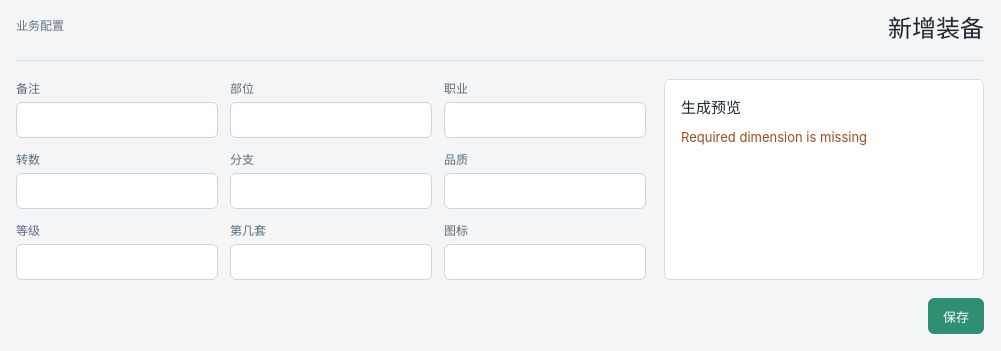
Test case: EquipEditPage › shows configured Chinese language text while keeping generated keys visible
In the field labelled "部位": [331, 120] box [230, 102, 432, 138], type "1"
In the field labelled "职业": [545, 120] box [444, 102, 646, 138], type "1"
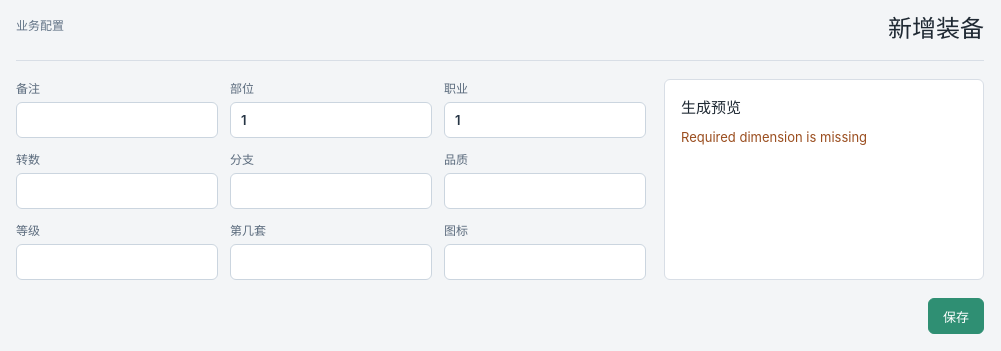
In the field labelled "转数": [117, 191] box [16, 173, 218, 209], type "0"
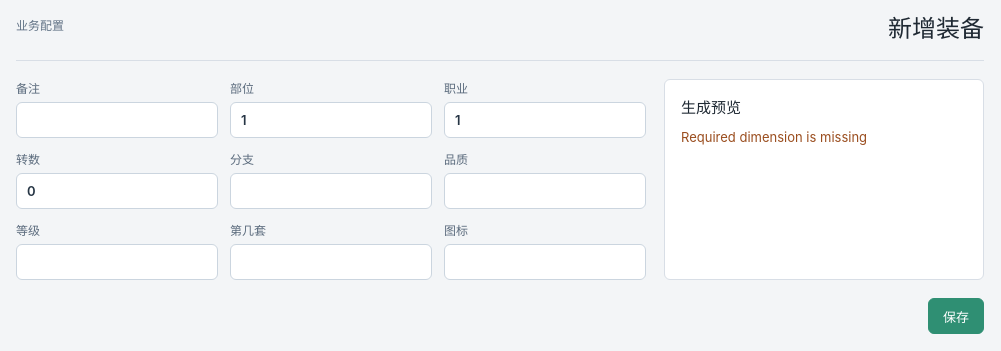
In the field labelled "分支": [331, 191] box [230, 173, 432, 209], type "1"
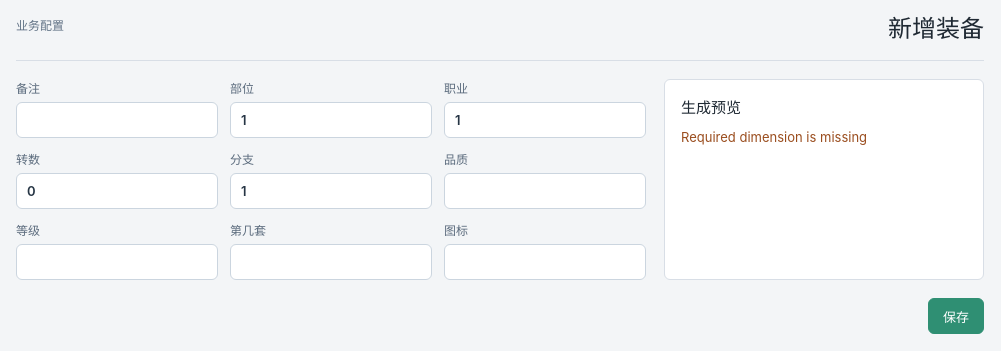
In the field labelled "品质": [545, 191] box [444, 173, 646, 209], type "1"
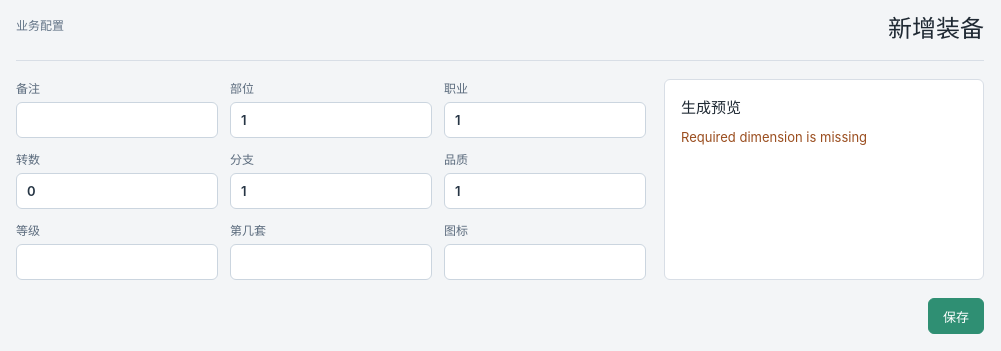
In the field labelled "等级": [117, 262] box [16, 244, 218, 280], type "1"
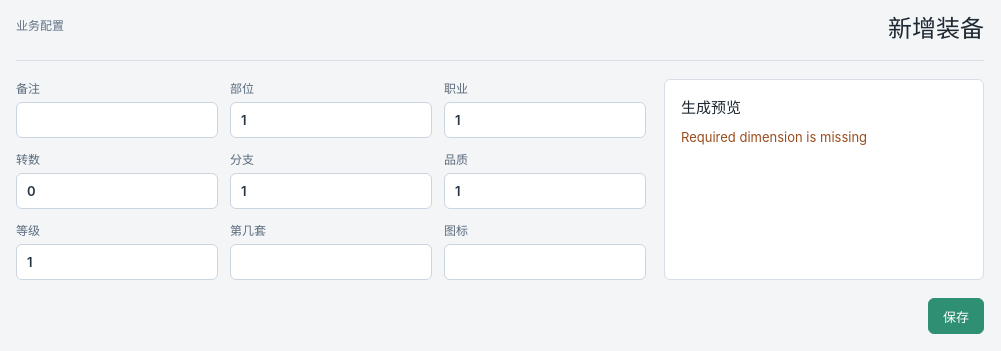
In the field labelled "第几套": [331, 262] box [230, 244, 432, 280], type "1"
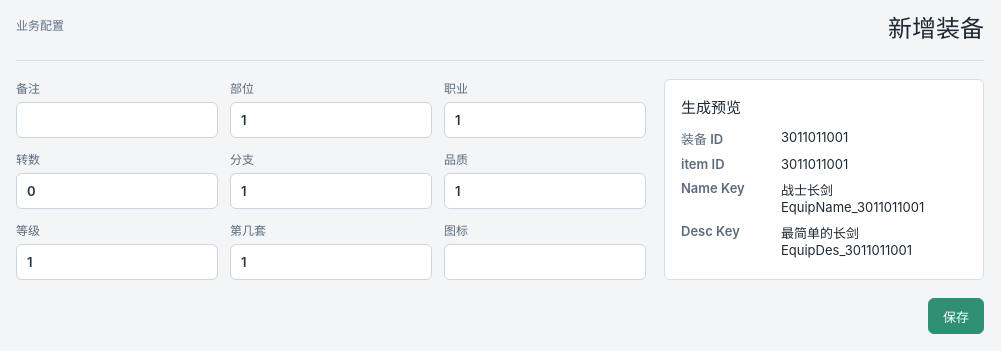
Expected: the text "战士长剑" is shown, [781, 182, 833, 198]
Expected: the text "最简单的长剑" is shown, [781, 225, 859, 241]
Expected: the text "EquipName_3011011001" is shown, [781, 199, 924, 215]
